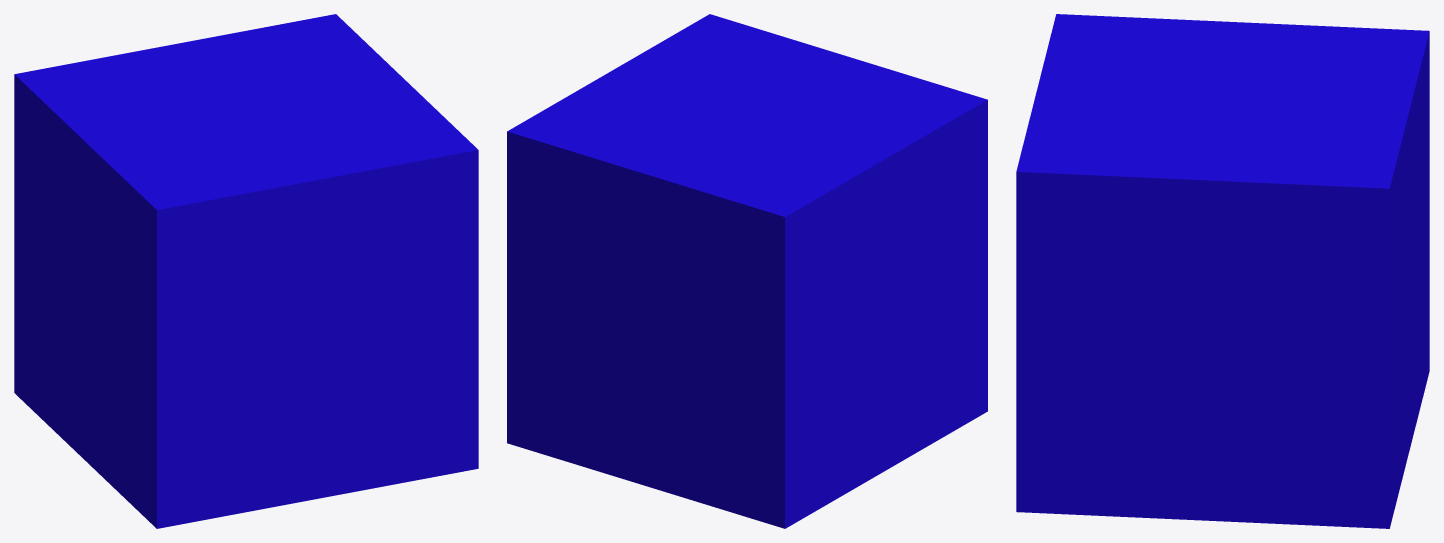
The model's file is cube-materials.glb.
The picture shows the model from 3 angles, left to right: view 1: azimuth 30°, elevation 25°; view 2: azimuth 150°, elevation 25°; view 3: azimuth 270°, elevation 25°; orthographic projection. The views are drawn at different scales.
Visible parts, largest first — view 1: Cube; view 2: Cube; view 3: Cube.
Part boxes in pixels (x1=…): Cube: x1=14, y1=14, x2=478, y2=528; Cube: x1=507, y1=14, x2=987, y2=528; Cube: x1=1016, y1=14, x2=1429, y2=528.
Bounding box in the file's own units: 2.2 × 2 × 2.2.
